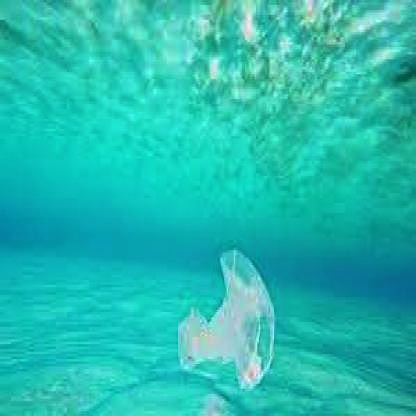pbag: (178, 248, 276, 393)
